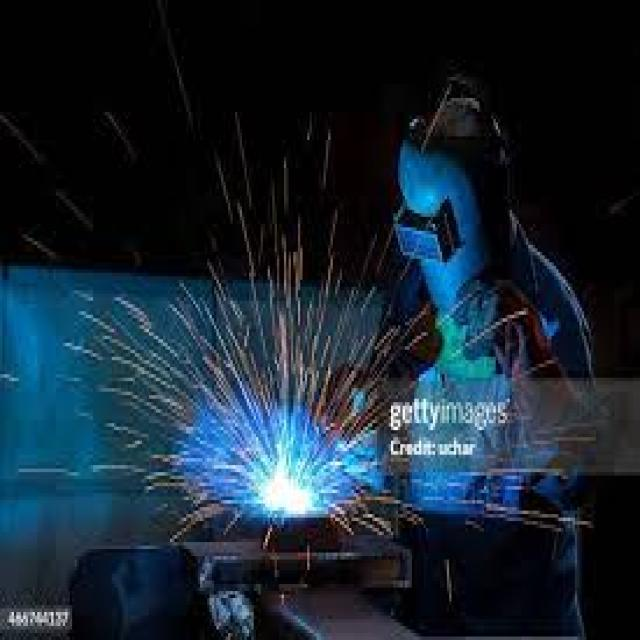welding: (260, 455, 319, 513)
